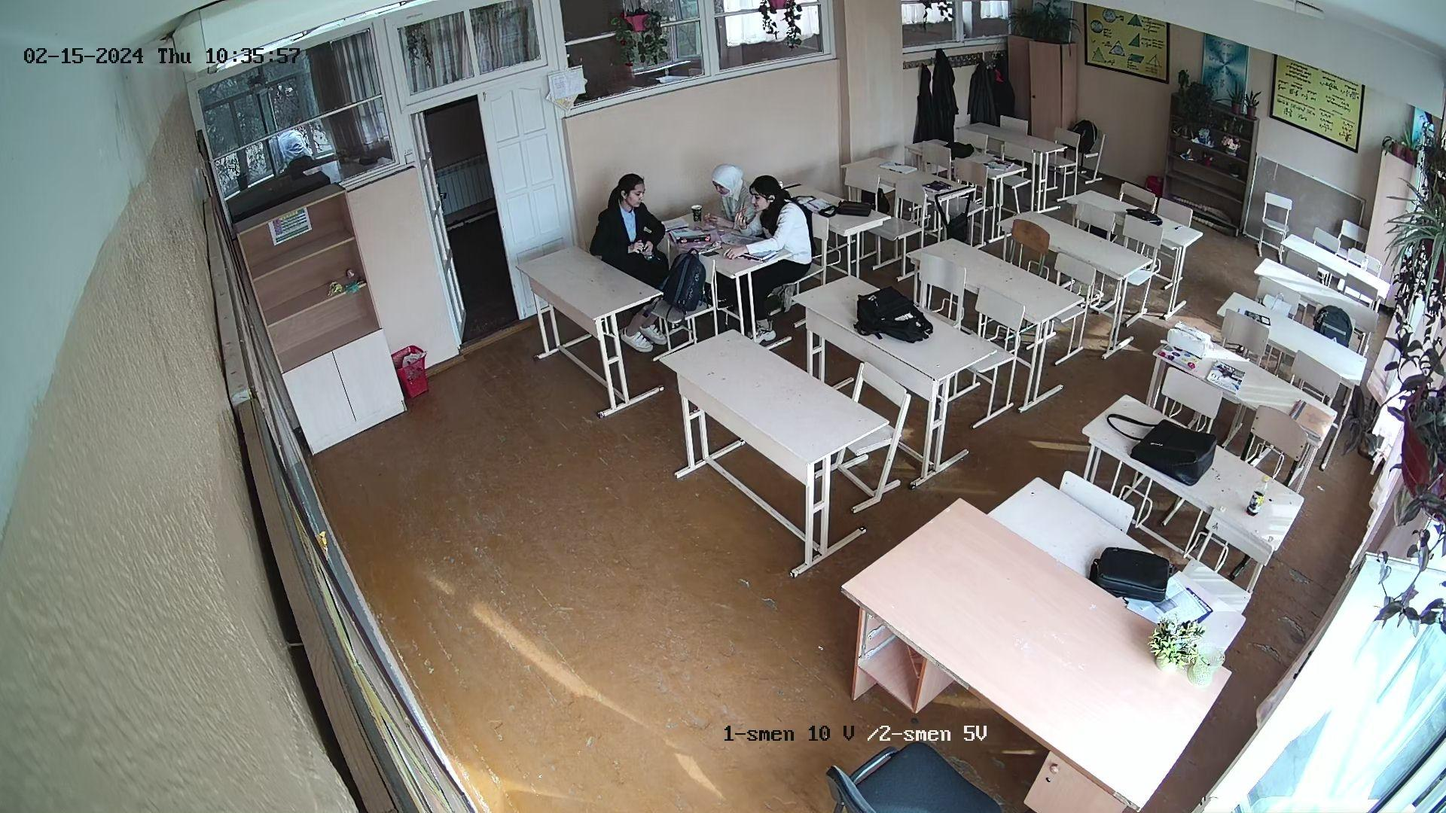Look Around: (581, 164, 660, 253)
Normal: (746, 174, 806, 259), (707, 164, 740, 228)
